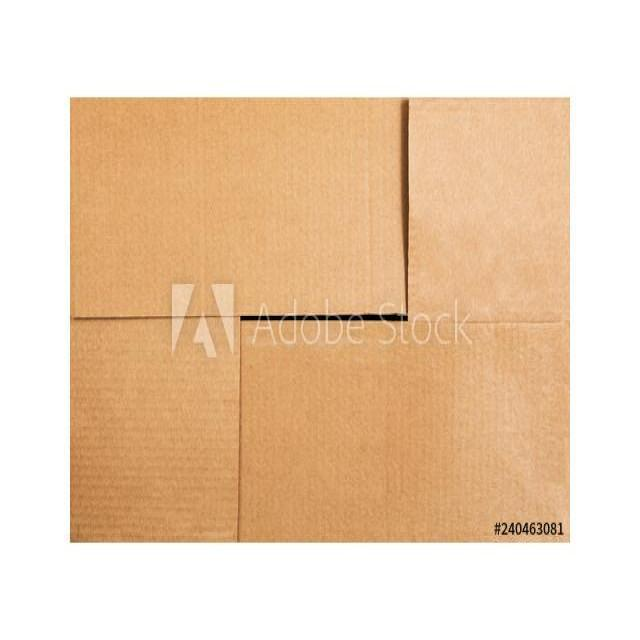Cardboard: (73, 96, 568, 542)
